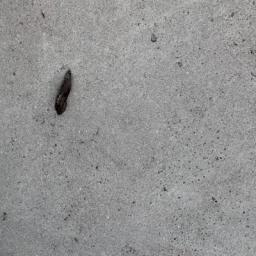FOD: (54, 66, 78, 123)
